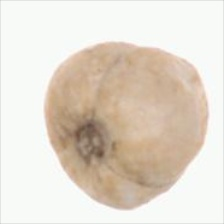L4: (44, 41, 209, 210)
